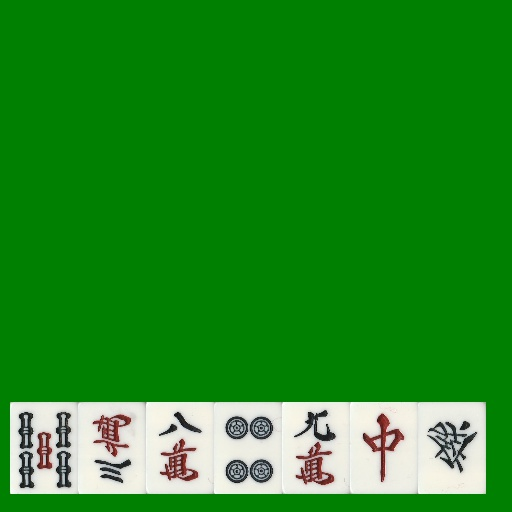3m: (78, 402, 146, 494)
4p: (214, 402, 282, 494)
5s: (10, 402, 78, 494)
8m: (146, 402, 214, 494)
9m: (282, 402, 350, 494)
hatsu: (418, 402, 486, 494)
tyun: (350, 402, 418, 494)
